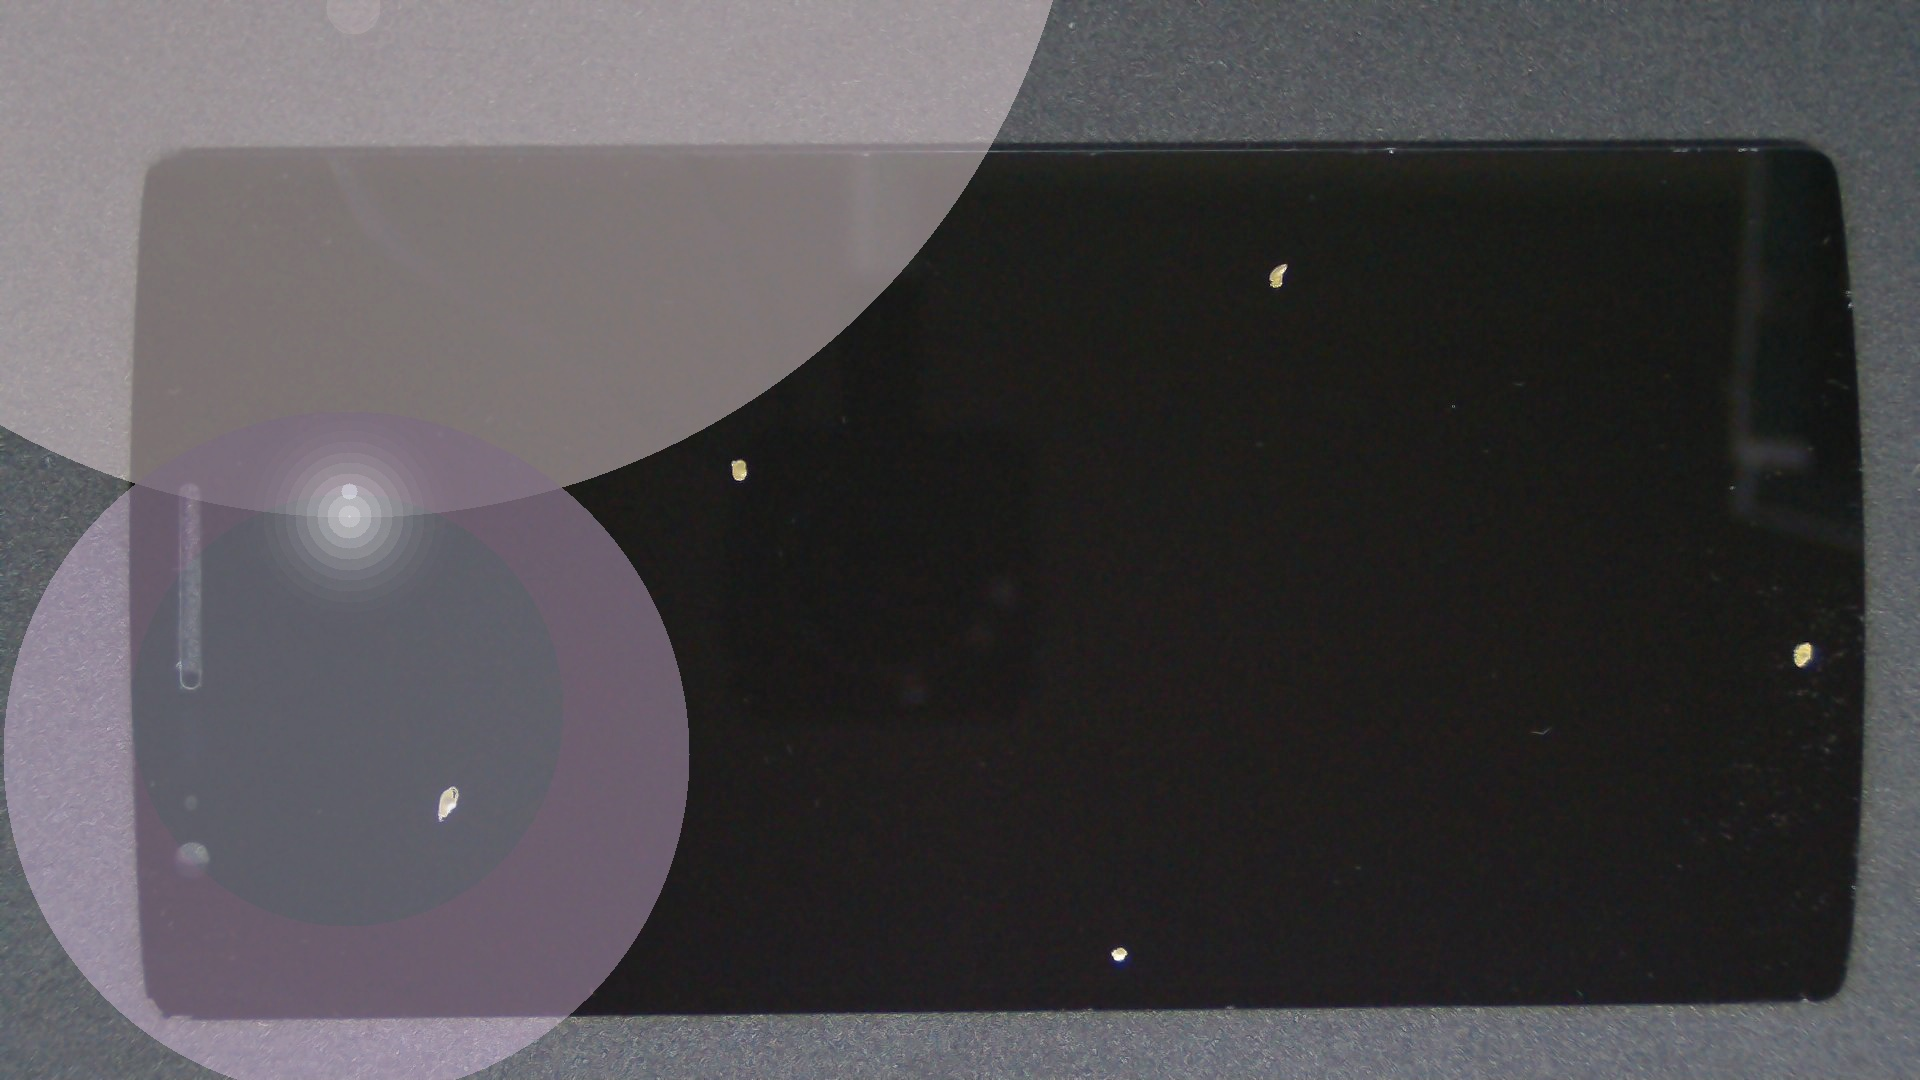oil: (560, 472, 1681, 1080), (905, 319, 1920, 957), (641, 129, 1916, 397), (369, 227, 1101, 687), (227, 389, 679, 1080)
